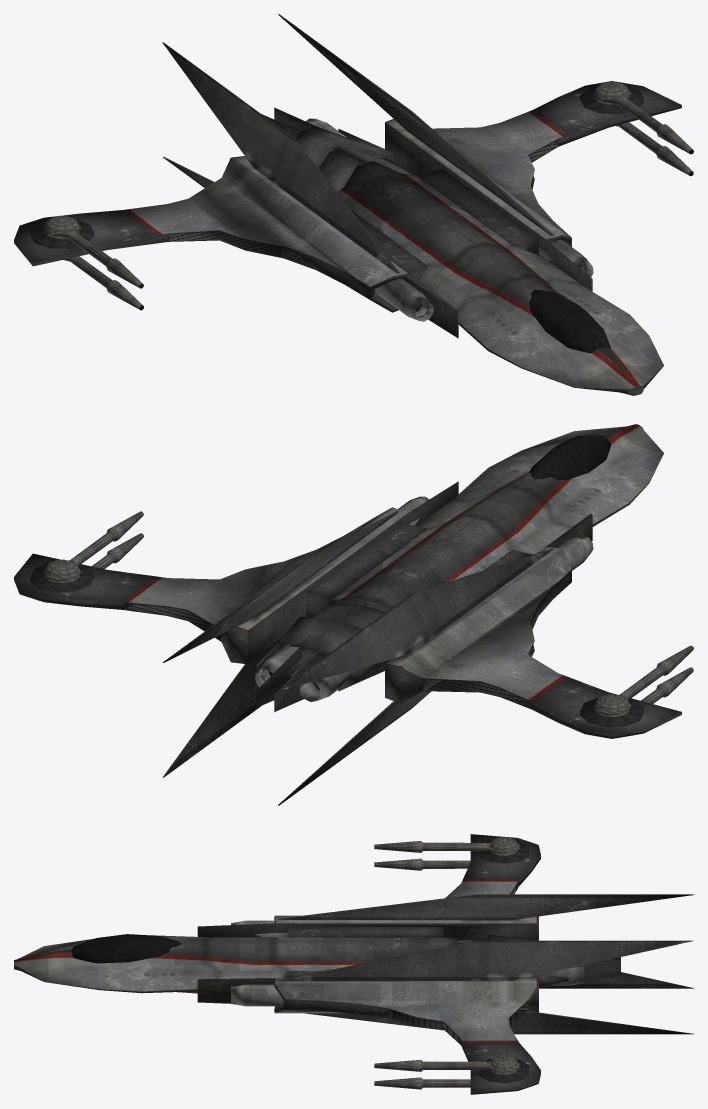
File: Cutlass.fbx
3 views of the same model, one above another, from view 1: azimuth 30°, elevation 25°; view 2: azimuth 150°, elevation 25°; view 3: azimuth 270°, elevation 25° (orthographic). The views are drawn at different scales.
Parts seen in each view (by area): view 1: Cutlass; view 2: Cutlass; view 3: Cutlass.
Part boxes in pixels (<box>): Cutlass: <box>14,14,693,395</box>; Cutlass: <box>14,424,693,805</box>; Cutlass: <box>14,834,693,1094</box>.
Bounding box in the file's own units: 354 × 59.82 × 394.
